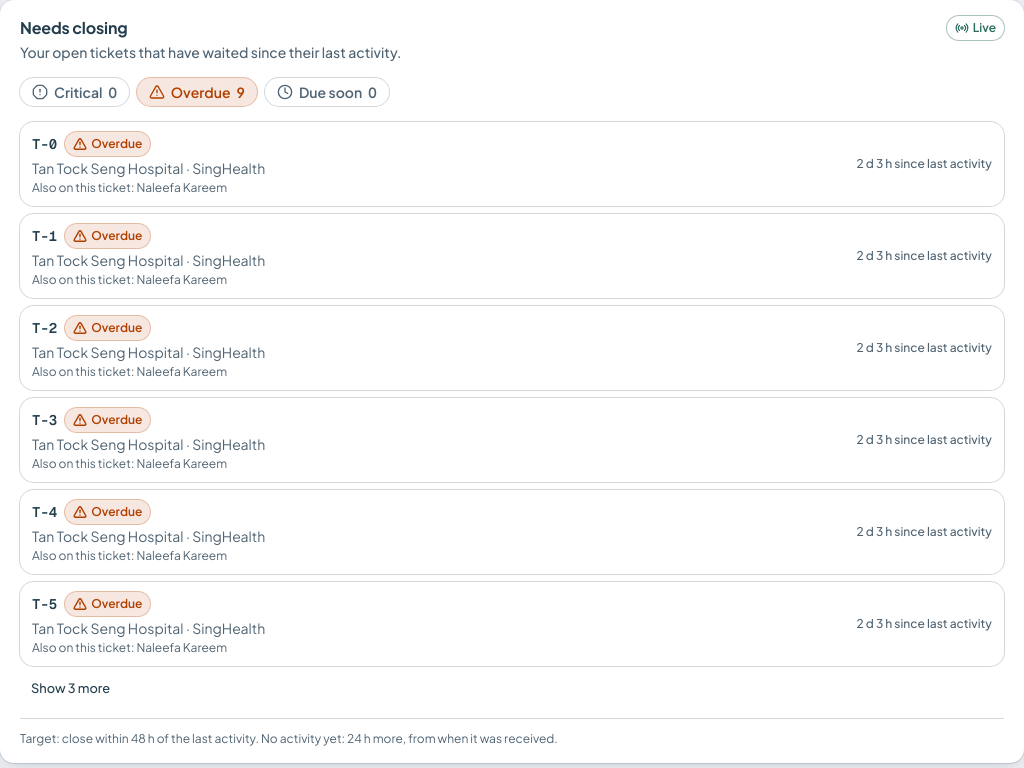
Test: Needs closing box › collapses long lists behind Show N more
Expected: the number of links is 6, [20,122,1004,206]; [20,214,1004,298]; [20,306,1004,390]; [20,398,1004,482]; [20,490,1004,574]; [20,582,1004,666]
Click the button "Show 3 more": x=71, y=688 [20,674,121,702]
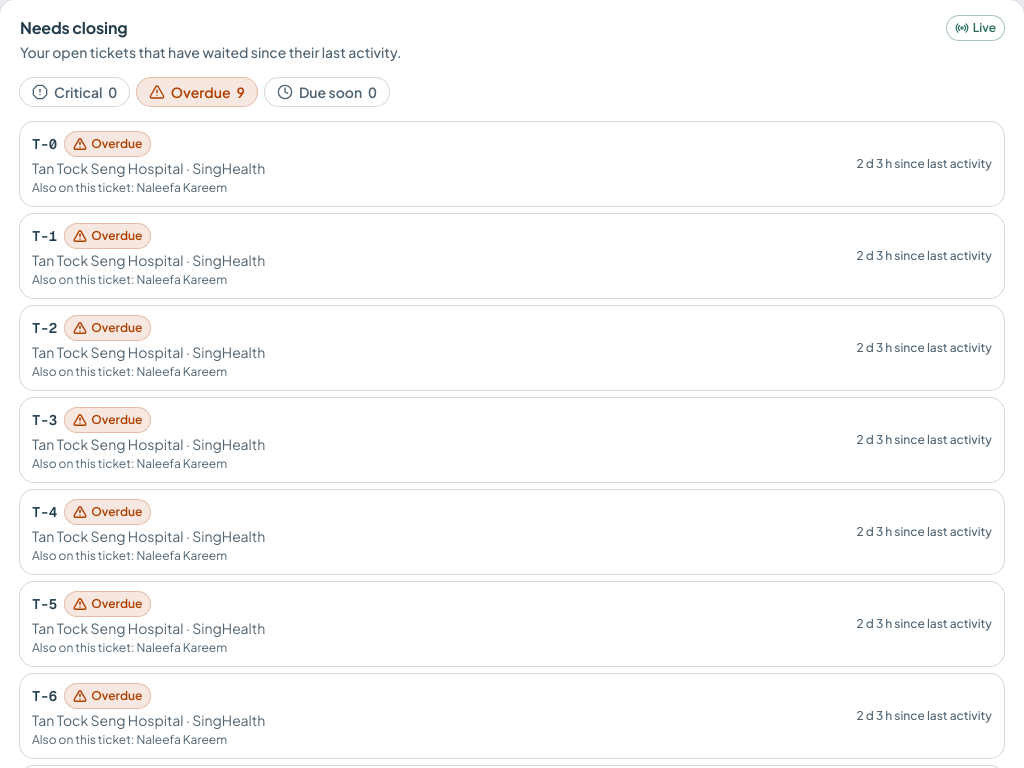
Expected: the number of links is 9
